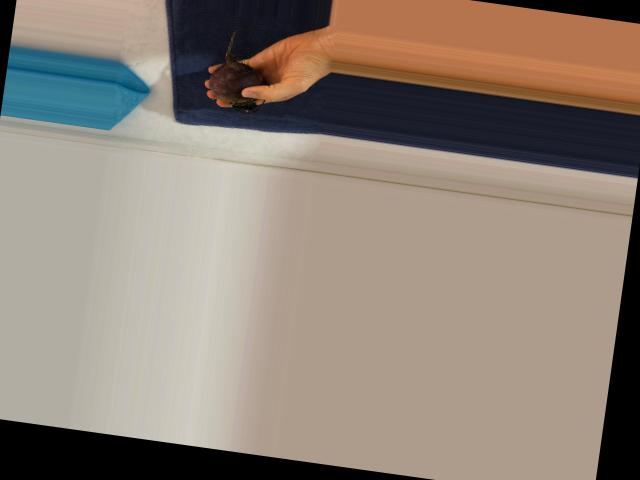beet: (205, 25, 274, 115)
